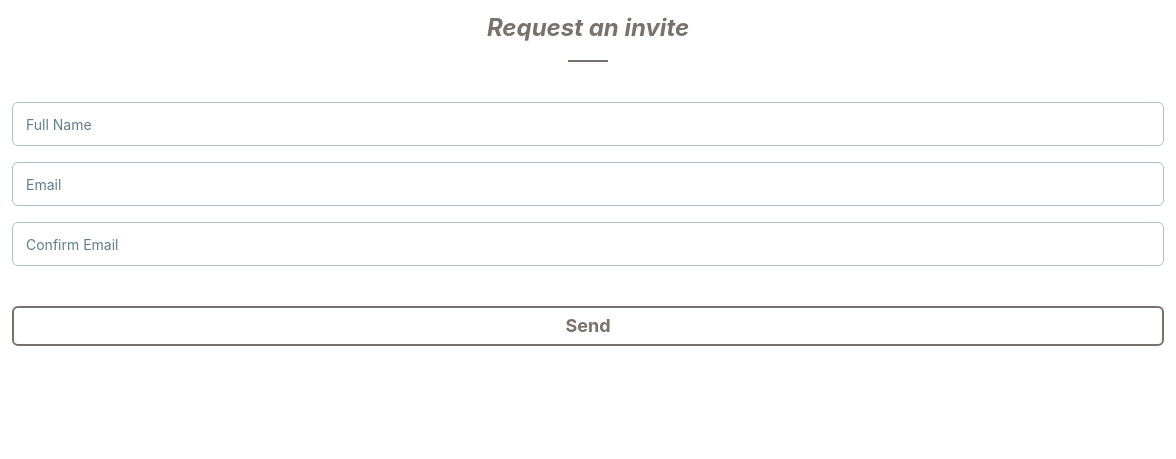
Test: should display required validation
The image size is (1176, 459).
Click the button with test id "modal-button" at (588, 326), box 12,306 -> 1164,346
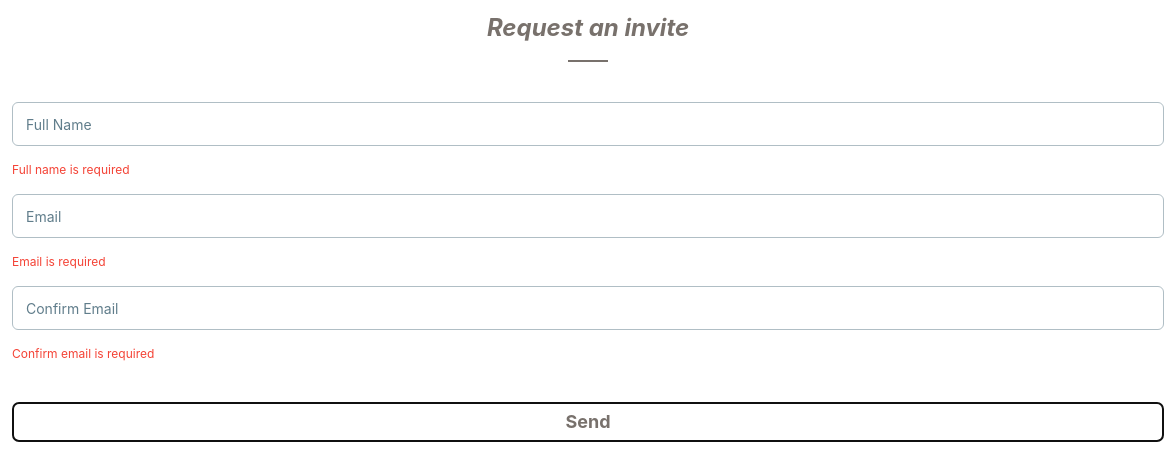
Check: the number of elements with test id "error-message" is 3, box 12,162 -> 130,177; 12,254 -> 106,269; 12,346 -> 154,361
